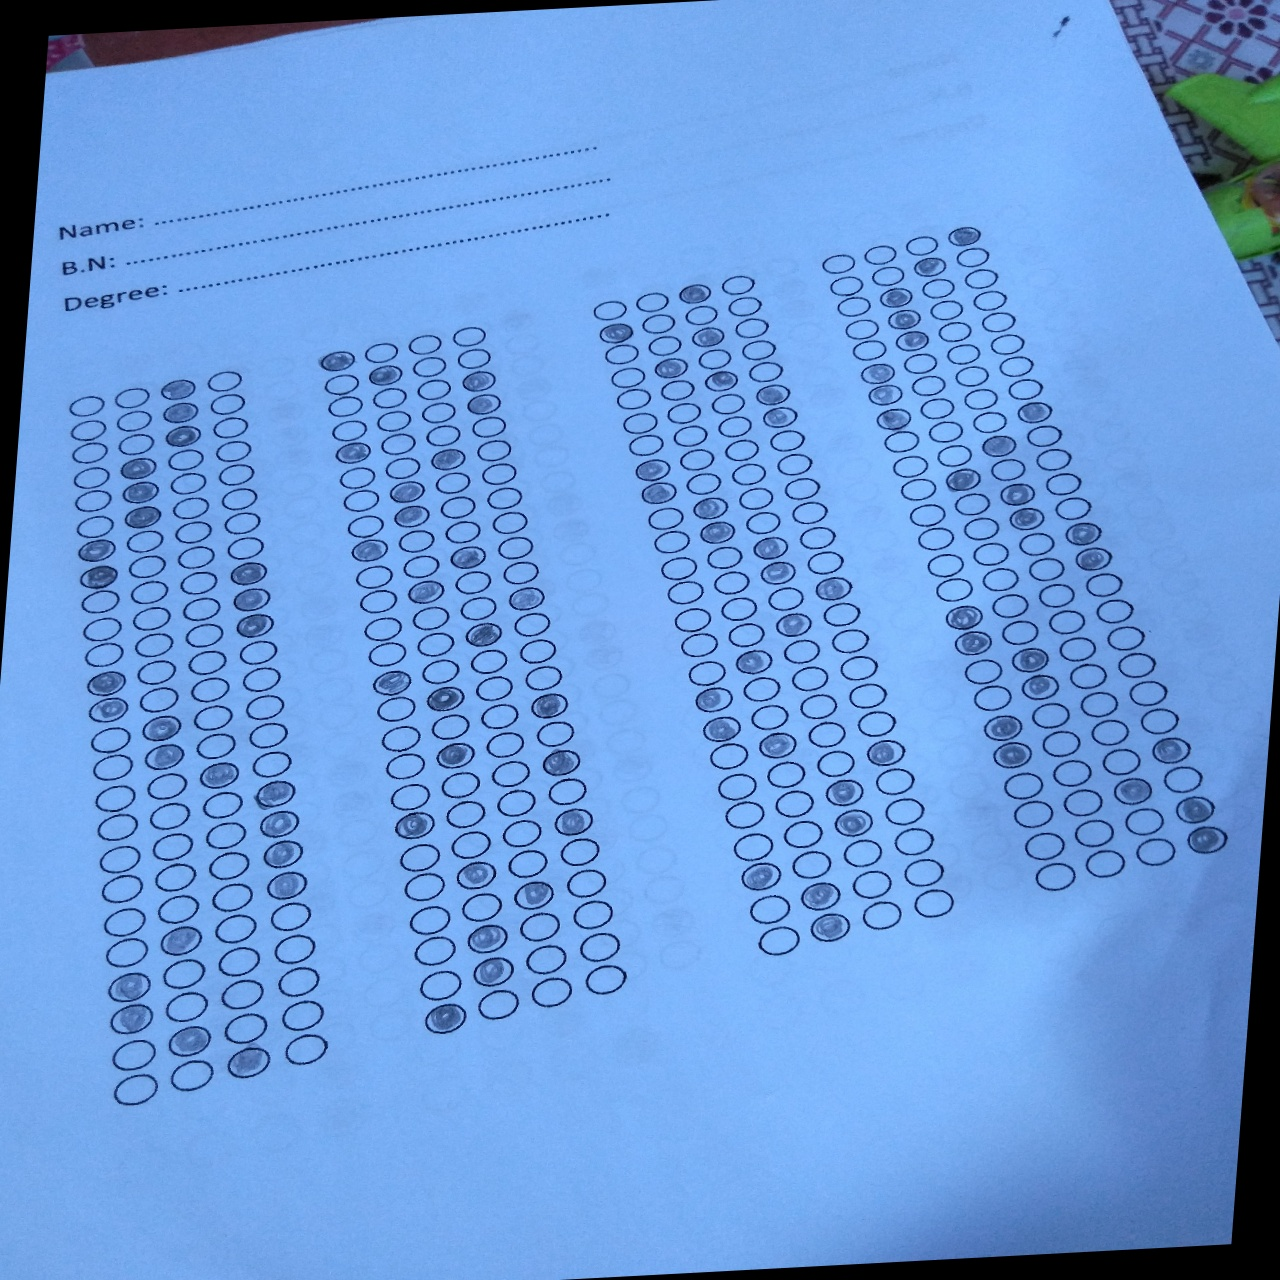not-c: (271, 931, 320, 967), (755, 922, 804, 959), (215, 944, 263, 980), (527, 974, 576, 1010), (278, 998, 327, 1033), (211, 912, 260, 947), (908, 886, 958, 921), (281, 1032, 329, 1067), (581, 962, 629, 998), (474, 987, 522, 1022), (858, 899, 906, 934), (745, 892, 794, 927), (218, 978, 267, 1012), (520, 942, 570, 976), (222, 1012, 268, 1047), (166, 1058, 215, 1092), (274, 965, 322, 999), (163, 990, 211, 1024), (159, 956, 207, 990), (266, 900, 314, 934), (900, 856, 948, 890), (113, 1073, 159, 1107), (576, 930, 622, 964), (110, 1039, 158, 1071), (206, 847, 252, 881), (150, 830, 196, 864), (1081, 847, 1126, 881), (881, 795, 928, 828), (103, 937, 149, 969), (155, 893, 200, 926), (210, 880, 256, 913), (152, 862, 198, 894), (199, 789, 245, 822), (147, 801, 192, 833), (248, 747, 294, 779), (772, 788, 818, 821), (1000, 769, 1046, 802), (1060, 787, 1105, 819), (101, 906, 148, 938), (245, 719, 292, 750), (872, 765, 919, 797), (849, 869, 896, 900), (493, 787, 538, 819), (1049, 756, 1094, 789), (203, 821, 248, 852), (145, 769, 191, 801), (840, 837, 886, 869), (790, 849, 836, 880), (813, 748, 859, 779), (707, 740, 753, 771), (1033, 862, 1078, 893), (1160, 763, 1206, 795), (1121, 806, 1166, 838), (890, 826, 937, 857), (731, 831, 778, 862), (779, 819, 826, 850), (721, 799, 768, 830), (714, 771, 761, 802), (762, 760, 809, 790), (852, 708, 899, 738), (803, 719, 850, 749), (397, 842, 441, 874), (506, 847, 550, 880), (518, 910, 561, 942), (1133, 836, 1177, 869), (97, 843, 142, 874), (448, 830, 492, 862), (402, 871, 447, 903), (557, 837, 601, 869), (413, 935, 457, 967), (1073, 816, 1117, 847), (93, 782, 138, 812), (98, 873, 144, 904), (570, 900, 615, 931), (545, 776, 588, 808), (499, 817, 543, 849), (408, 904, 451, 935), (459, 891, 503, 922), (418, 969, 462, 1001), (1012, 799, 1055, 831), (1022, 830, 1065, 862), (192, 730, 237, 761), (564, 869, 608, 899), (1137, 706, 1182, 736), (375, 694, 418, 724), (471, 674, 515, 704), (483, 729, 526, 760), (443, 799, 486, 830), (243, 693, 287, 722), (95, 813, 139, 843), (468, 647, 512, 676), (520, 663, 565, 693), (1029, 700, 1071, 730), (239, 665, 282, 694), (89, 726, 132, 755), (90, 753, 134, 782), (413, 629, 456, 659), (427, 713, 470, 742), (477, 702, 520, 731), (532, 720, 576, 749), (388, 783, 431, 812), (489, 760, 532, 789), (796, 692, 839, 721), (838, 653, 881, 682), (685, 659, 728, 688), (779, 636, 823, 666), (670, 605, 714, 634), (136, 685, 181, 713), (517, 636, 561, 665), (379, 724, 423, 753), (1039, 730, 1083, 758), (748, 702, 790, 731), (846, 681, 888, 710), (789, 665, 831, 694), (741, 674, 783, 703), (829, 627, 871, 656), (821, 599, 863, 628), (726, 621, 768, 651), (678, 631, 720, 660), (1067, 662, 1109, 692), (132, 631, 176, 659), (191, 703, 234, 731), (365, 640, 408, 668), (510, 611, 553, 639), (420, 658, 463, 686), (383, 753, 427, 781), (797, 524, 840, 552), (1056, 635, 1099, 663), (1088, 717, 1131, 745), (1099, 747, 1143, 775), (1115, 651, 1156, 680), (1128, 678, 1169, 707), (80, 617, 124, 644), (236, 639, 280, 666), (134, 659, 178, 686), (83, 641, 125, 669), (186, 648, 229, 676), (189, 676, 231, 704), (440, 771, 482, 799), (663, 579, 706, 607), (789, 499, 831, 527), (933, 576, 975, 604), (1083, 570, 1125, 598), (1094, 598, 1136, 626), (962, 658, 1005, 686), (182, 621, 225, 648), (645, 504, 688, 531), (1105, 622, 1145, 652), (658, 554, 699, 583), (990, 592, 1032, 620), (999, 619, 1040, 647), (1078, 690, 1119, 719), (124, 527, 166, 554), (181, 595, 223, 622), (451, 568, 493, 595), (456, 595, 498, 622), (717, 595, 760, 622), (764, 585, 806, 612), (804, 550, 846, 577), (743, 509, 785, 536), (651, 527, 693, 554), (1036, 583, 1078, 610), (1046, 608, 1088, 635), (971, 685, 1013, 712), (125, 554, 169, 580), (79, 588, 122, 614), (354, 565, 397, 591), (493, 535, 535, 561), (712, 568, 753, 595), (704, 544, 745, 571), (678, 445, 719, 472), (721, 437, 762, 464), (767, 427, 808, 454), (924, 551, 965, 578), (1024, 556, 1065, 583), (979, 566, 1020, 593), (128, 580, 170, 606), (177, 570, 219, 595), (130, 605, 172, 631), (394, 529, 436, 554), (442, 519, 484, 545), (499, 559, 542, 585), (358, 588, 400, 614), (410, 605, 452, 631), (361, 617, 403, 642), (914, 526, 956, 552), (402, 554, 444, 580), (170, 493, 210, 520), (735, 485, 775, 512), (782, 475, 822, 502), (729, 461, 769, 488), (961, 515, 1001, 542), (206, 392, 247, 417), (74, 515, 115, 540), (173, 519, 215, 545), (177, 544, 218, 570), (489, 510, 530, 536), (774, 452, 815, 478), (907, 502, 948, 527), (1032, 447, 1073, 472), (971, 542, 1012, 567), (1014, 530, 1055, 556), (685, 470, 723, 497), (225, 536, 265, 561), (69, 441, 109, 467), (166, 448, 206, 474), (433, 470, 472, 496), (890, 454, 930, 479), (1053, 496, 1092, 522), (222, 511, 263, 536), (113, 409, 154, 434), (934, 443, 975, 468), (898, 477, 939, 502), (986, 457, 1027, 482), (479, 461, 518, 486), (438, 495, 477, 520), (665, 400, 703, 425), (719, 272, 757, 298), (204, 368, 244, 393), (210, 415, 250, 440), (219, 486, 259, 511), (113, 386, 152, 410), (68, 418, 108, 443), (73, 488, 113, 512), (168, 471, 207, 496), (406, 332, 445, 356), (454, 347, 493, 372), (325, 394, 365, 418), (474, 437, 513, 462), (944, 342, 983, 367), (952, 492, 992, 517), (342, 488, 380, 513), (659, 377, 696, 403), (615, 386, 653, 411), (610, 365, 647, 390), (695, 346, 733, 372), (683, 302, 721, 328), (862, 241, 899, 267), (850, 338, 887, 363), (988, 332, 1026, 358), (927, 298, 965, 324), (920, 275, 958, 301), (910, 373, 947, 399), (961, 386, 999, 411), (926, 418, 964, 444), (215, 438, 253, 463), (217, 462, 256, 486), (67, 394, 105, 418), (117, 433, 156, 457), (322, 372, 361, 396), (415, 377, 454, 402), (418, 400, 457, 424), (469, 415, 508, 440), (383, 456, 422, 481), (338, 465, 376, 490), (484, 486, 523, 511), (346, 515, 384, 539), (645, 333, 683, 358), (740, 338, 778, 362), (733, 316, 771, 341), (843, 316, 881, 341), (979, 309, 1017, 334), (952, 365, 990, 389), (1007, 377, 1046, 402), (917, 395, 955, 420), (1044, 471, 1083, 496), (717, 413, 754, 438), (747, 359, 783, 384), (72, 467, 111, 490), (361, 341, 401, 365), (377, 431, 417, 455), (670, 424, 708, 449), (709, 392, 747, 416), (819, 251, 857, 275), (954, 244, 992, 268), (901, 350, 939, 375), (937, 319, 974, 343), (962, 266, 1000, 291), (881, 428, 919, 452), (971, 410, 1008, 435), (1024, 424, 1062, 449), (628, 433, 663, 458), (590, 299, 628, 322), (903, 233, 941, 257), (971, 290, 1009, 313), (602, 342, 639, 367), (727, 294, 763, 319), (998, 354, 1034, 379), (411, 354, 449, 377), (375, 409, 413, 433), (423, 423, 461, 447), (620, 411, 658, 435), (639, 312, 676, 335), (448, 325, 486, 347), (372, 386, 408, 409), (331, 418, 367, 442), (634, 291, 670, 314), (870, 264, 906, 287), (835, 295, 871, 318), (830, 274, 865, 297)
taken-c: (157, 922, 205, 959), (422, 1001, 471, 1036), (508, 878, 557, 913), (808, 910, 857, 945), (798, 880, 847, 915), (109, 1002, 157, 1037), (165, 1023, 213, 1058), (452, 857, 501, 892), (105, 971, 155, 1005), (463, 921, 512, 955), (737, 860, 787, 894), (736, 859, 785, 893), (471, 954, 518, 989), (225, 1046, 273, 1080), (551, 804, 599, 838), (821, 777, 869, 811), (863, 736, 911, 770), (756, 730, 804, 764), (830, 806, 878, 840), (1184, 823, 1231, 857), (389, 810, 437, 842), (692, 685, 737, 717), (1007, 645, 1053, 678), (1148, 734, 1193, 767), (1171, 794, 1217, 826), (537, 747, 585, 777), (989, 738, 1034, 771), (981, 712, 1026, 744), (1111, 774, 1156, 806), (503, 584, 549, 615), (700, 714, 745, 745), (733, 647, 778, 679), (951, 628, 996, 660), (771, 610, 817, 641), (422, 685, 469, 715), (345, 536, 392, 566), (139, 713, 184, 744), (197, 760, 241, 791), (265, 870, 309, 901), (1017, 673, 1062, 704), (142, 742, 188, 772), (257, 809, 302, 839), (526, 692, 572, 722), (403, 579, 449, 610), (942, 602, 988, 633), (254, 777, 299, 808), (261, 839, 306, 870), (431, 741, 476, 771), (464, 620, 509, 651), (443, 543, 488, 573), (368, 668, 414, 697), (1062, 520, 1107, 550), (232, 585, 275, 614), (86, 695, 129, 724), (811, 576, 855, 605), (1005, 505, 1049, 533), (941, 467, 986, 495), (226, 559, 268, 588), (384, 478, 427, 508), (87, 669, 130, 697), (1073, 545, 1116, 573), (996, 482, 1040, 510), (976, 433, 1020, 461), (79, 563, 121, 591), (233, 612, 275, 640), (427, 445, 468, 474), (316, 347, 358, 375), (866, 381, 907, 409), (856, 361, 897, 389), (121, 504, 163, 531), (457, 369, 499, 396), (750, 535, 792, 561), (757, 559, 799, 586), (1015, 399, 1055, 427), (892, 328, 932, 356), (365, 362, 406, 389), (874, 406, 915, 433), (162, 423, 204, 449), (120, 479, 162, 505), (77, 537, 120, 563), (390, 503, 430, 530), (464, 392, 504, 418), (332, 440, 372, 467), (884, 306, 924, 333), (876, 285, 915, 312), (944, 223, 983, 250), (597, 320, 636, 347), (651, 355, 690, 382), (760, 404, 799, 431), (118, 456, 159, 482), (911, 254, 949, 281), (687, 324, 726, 350), (703, 368, 742, 395), (634, 456, 673, 483), (639, 479, 678, 506), (692, 493, 730, 520), (159, 401, 202, 425), (676, 280, 716, 306), (753, 382, 792, 408), (699, 519, 738, 545), (158, 377, 200, 401)
